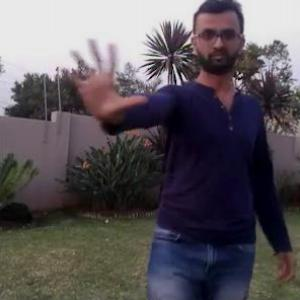follow_hand: (61, 34, 148, 120)
